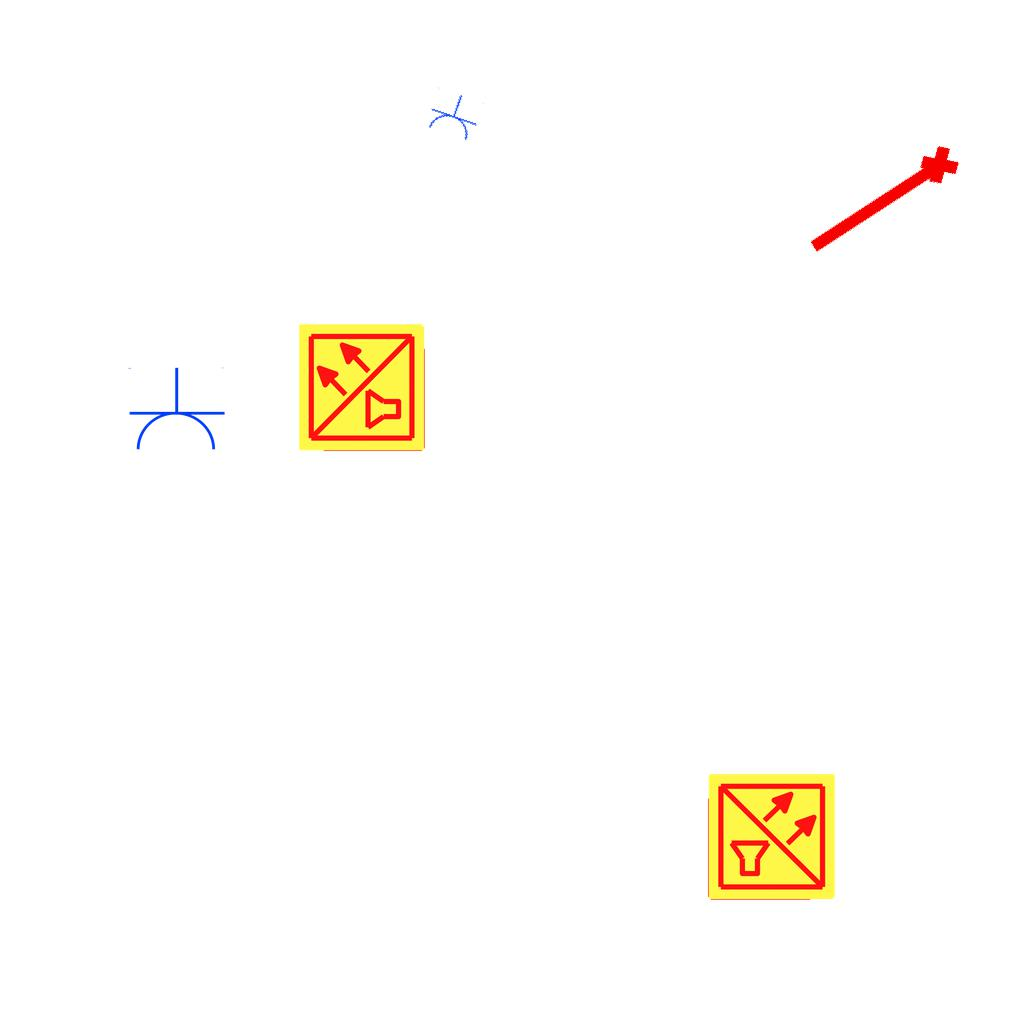ASR_Ansaugoeffnung: (797, 136, 971, 272)
OKW_Multisensormelder_(Kombination_optischer_Rauch-Kahlenmonoxid_Waerme-Melder): (296, 321, 428, 453), (706, 771, 838, 903)
Schukosteckdose_einfach: (126, 367, 226, 454), (423, 87, 485, 144)
